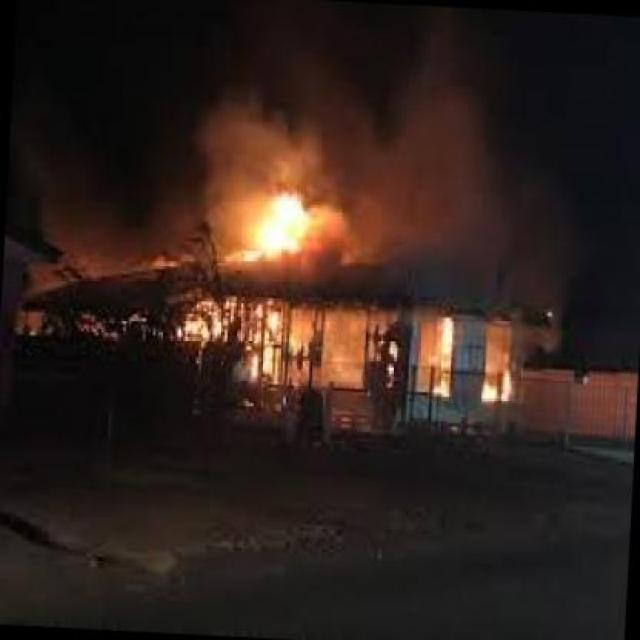Fire: (222, 194, 328, 276), (182, 308, 295, 384), (422, 314, 458, 412), (480, 330, 517, 412)
Smoke: (29, 35, 588, 303)
